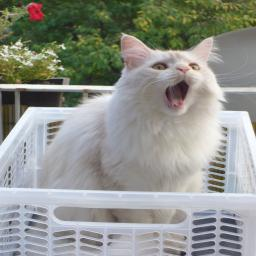catnose: (173, 64, 192, 74)
